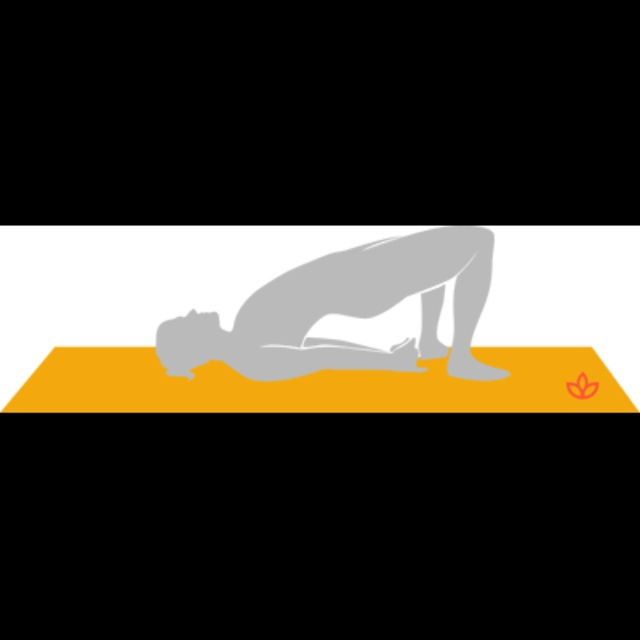Bridge_Pose: (145, 224, 517, 392)
